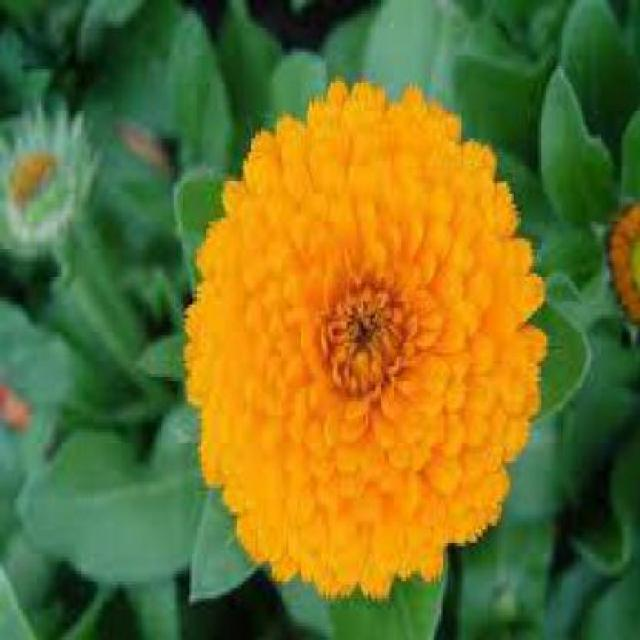flower: (182, 71, 543, 580)
